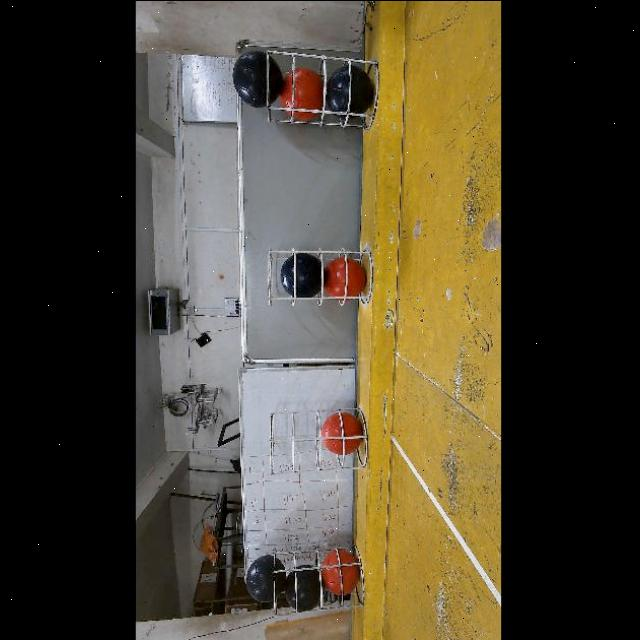P: (231, 50, 282, 107), (326, 62, 372, 116), (244, 554, 286, 602), (280, 251, 322, 296), (283, 563, 320, 611)
R: (279, 66, 325, 119), (324, 256, 366, 300), (320, 411, 362, 455), (320, 549, 358, 594)
S: (264, 56, 372, 126), (262, 405, 362, 479), (270, 245, 378, 307), (268, 540, 368, 604)
